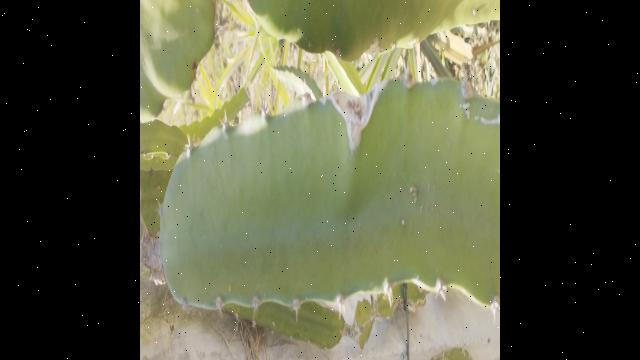stemcanker: (160, 83, 499, 312)
